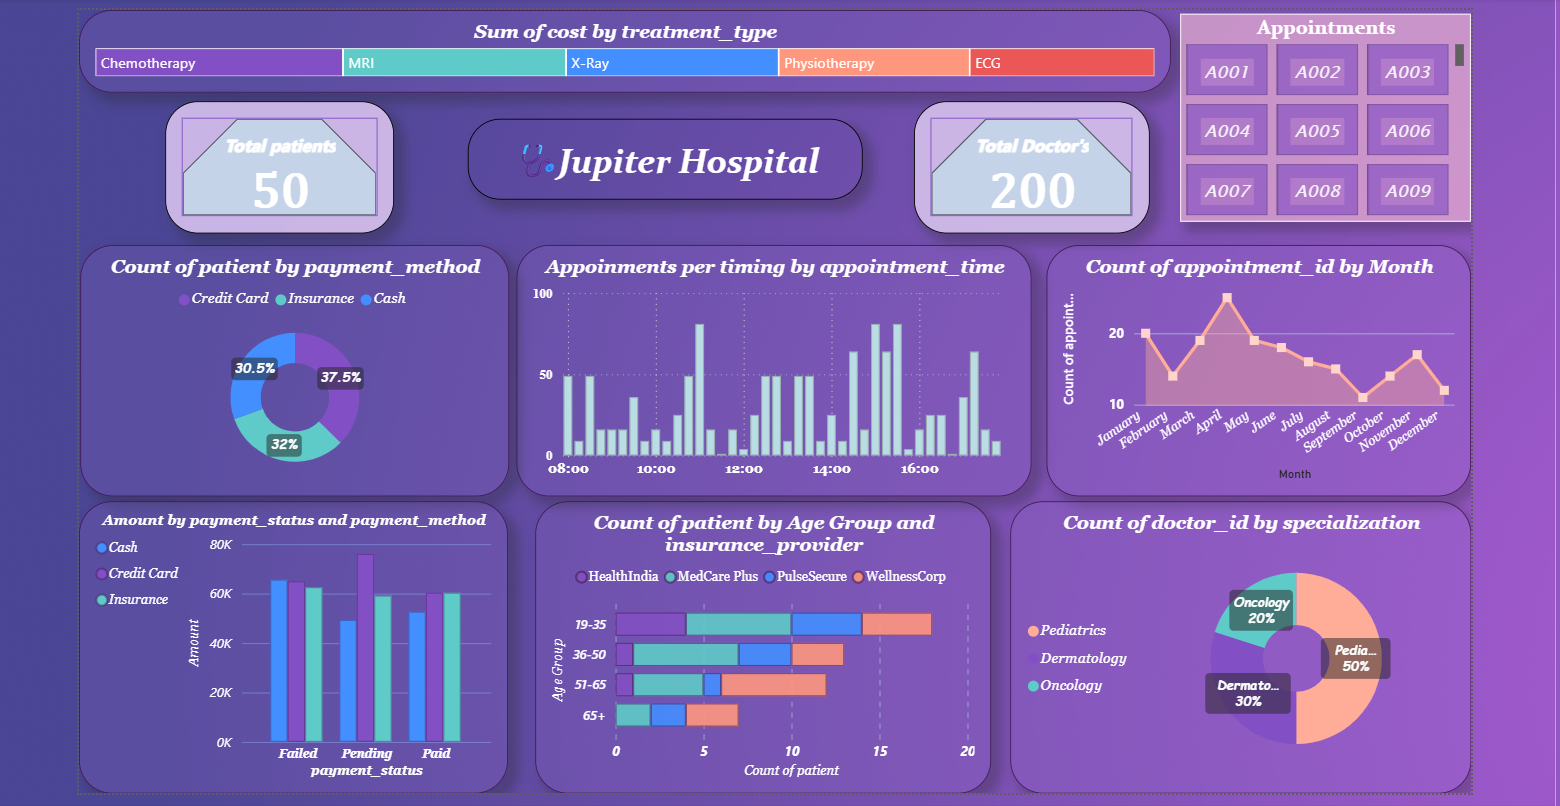

What the dashboard file says about the page in this screenshot:
{"tool":"powerbi","page":{"name":"Page 1","canvas":[1280,720],"ordinal":0},"visuals":[{"type":"barChart","fields":{"Category":["patients.Age Group"],"Y":["CountNonNull(patients.patient_id)"],"Series":["patients.insurance_provider"]},"box":[419.2,451.6,419.2,268.7],"z":0},{"type":"lineChart","fields":{"Category":["appointments.appointment_date.Variation.Date Hierarchy.Month"],"Y":["CountNonNull(appointments.appointment_id)"]},"box":[889.4,216.4,390.6,231.4],"z":1000},{"type":"columnChart","title":"Appoinments per timing by appointment_time","fields":{"Category":["appointments.appointment_time"],"Y":["Sum(appointments.Number of appoinments per timing)"]},"box":[401.8,216.4,473.9,231.4],"z":2000},{"type":"treemap","fields":{"Group":["treatments.treatment_type"],"Values":["Sum(treatments.   cost   )"]},"box":[0,0,1003.9,75.9],"z":3000},{"type":"donutChart","title":"Count of patient by payment_method","fields":{"Category":["billing.payment_method"],"Y":["CountNonNull(billing.patient_id)"]},"box":[1.2,216.4,394.3,231.4],"z":4000},{"type":"clusteredColumnChart","fields":{"Category":["billing.payment_status"],"Y":["Sum(billing.amount)"],"Series":["billing.payment_method"]},"box":[0,451.6,394.3,268.7],"z":6000},{"type":"donutChart","fields":{"Category":["doctors.specialization"],"Y":["CountNonNull(doctors.doctor_id)"]},"box":[855.8,451.6,424.2,268.7],"z":7000},{"type":"textbox","box":[357,99.5,363.2,74.6],"z":8000},{"type":"cardVisual","fields":{"Data":["CountNonNull(patients.patient_id)"]},"box":[79.6,83.3,210.2,121.9],"z":9000},{"type":"cardVisual","fields":{"Data":["CountNonNull(appointments.doctor_id)"]},"box":[767.5,83.3,216.4,121.9],"z":10000},{"type":"advancedSlicerVisual","title":"Appointments","fields":{"Values":["treatments.appointment_id"]},"box":[1012.6,3.7,267.5,191.6],"z":12001}]}

Visuals, with their boxes in screenshot pixels (x1, y1, x2, y2):
barChart - patients.Age Group x CountNonNull(patients.patient_id): x1=409, y1=522, x2=871, y2=805
lineChart - appointments.appointment_date.Variation.Date Hierarchy.Month x CountNonNull(appointments.appointment_id): x1=927, y1=263, x2=1357, y2=518
"Appoinments per timing by appointment_time" columnChart: x1=390, y1=263, x2=912, y2=518
treemap - treatments.treatment_type x Sum(treatments.   cost   ): x1=0, y1=24, x2=1053, y2=108
"Count of patient by payment_method" donutChart: x1=0, y1=263, x2=383, y2=518
clusteredColumnChart - billing.payment_status x Sum(billing.amount): x1=0, y1=522, x2=382, y2=805
donutChart - doctors.specialization x CountNonNull(doctors.doctor_id): x1=890, y1=522, x2=1357, y2=805
textbox: x1=341, y1=134, x2=741, y2=216
cardVisual - CountNonNull(patients.patient_id): x1=35, y1=116, x2=266, y2=250
cardVisual - CountNonNull(appointments.doctor_id): x1=793, y1=116, x2=1031, y2=250
"Appointments" advancedSlicerVisual: x1=1063, y1=28, x2=1358, y2=240
